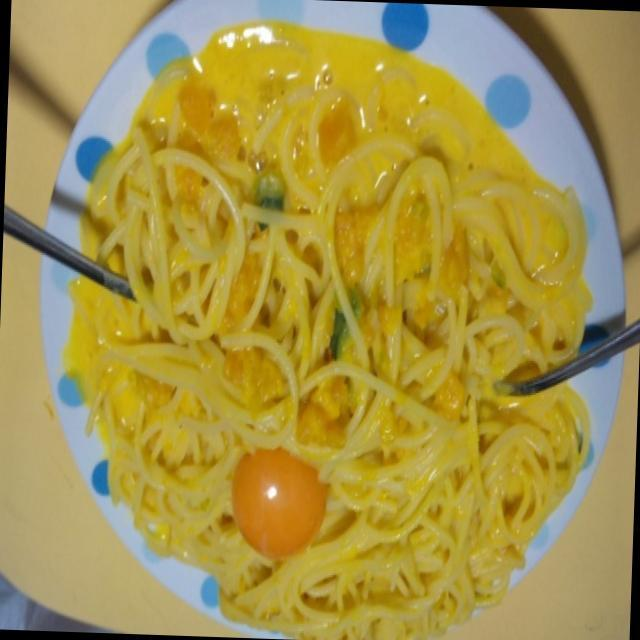Pasta: (91, 122, 576, 640)
